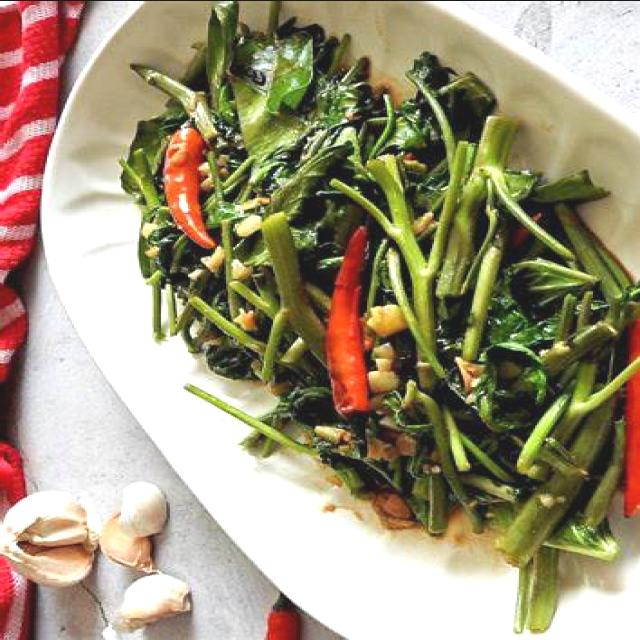tumis kangkung: (119, 0, 640, 635)
